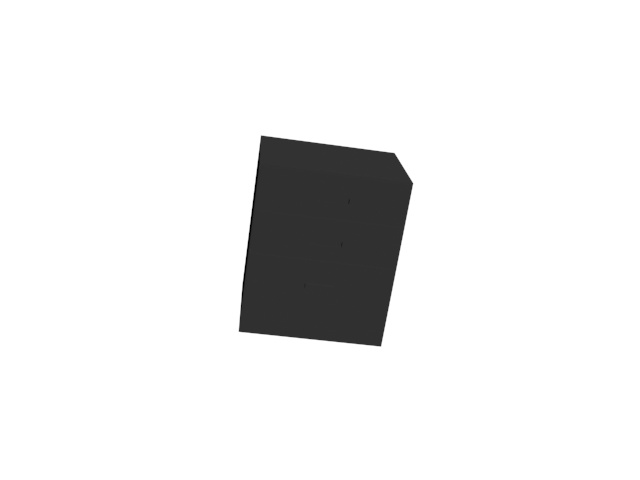file_cabinet: (233, 129, 416, 352)
